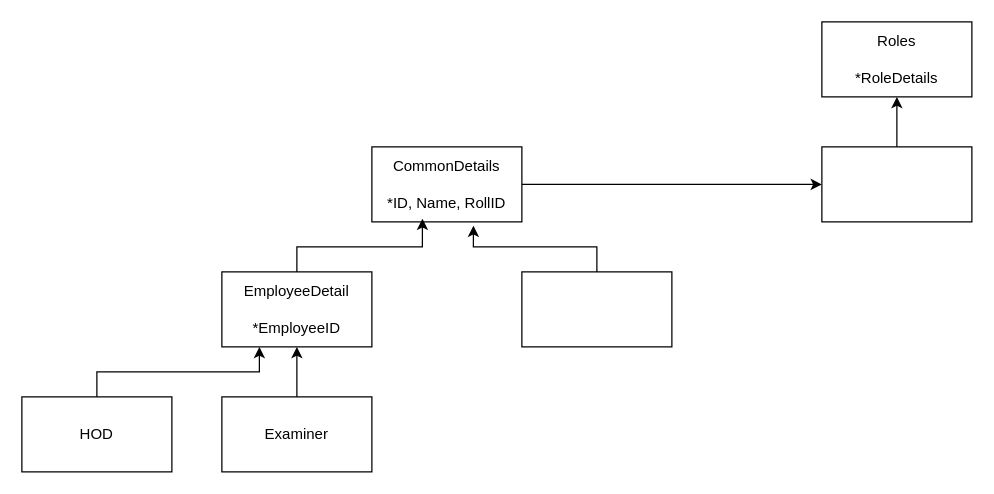
This 994x494 diagram has some shape labels left out. The shapes that lost their labels are listed below. From the top down, each one's centre as x and y in pixels, then its label:
At (x=896, y=184): "RoleAssignment".
At (x=596, y=309): "Students *CourseID".
